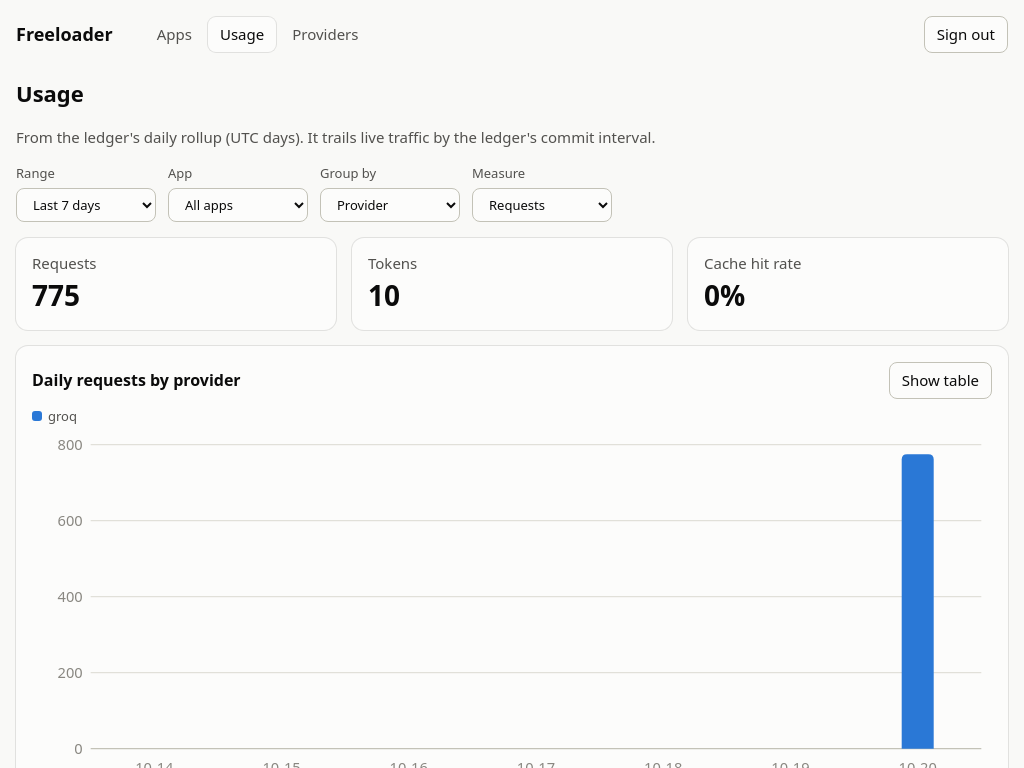
Test: Usage page › with more than 8 apps the chart folds the smallest into Other, but the table names every app
The width and height of the screenshot is (1024, 768).
Check: the list named "Legend" is shown, box [32,406,77,424]
Step 1. Select "App" in the dropdown labelled "Group by" → (390, 204), box [320,188,460,222]
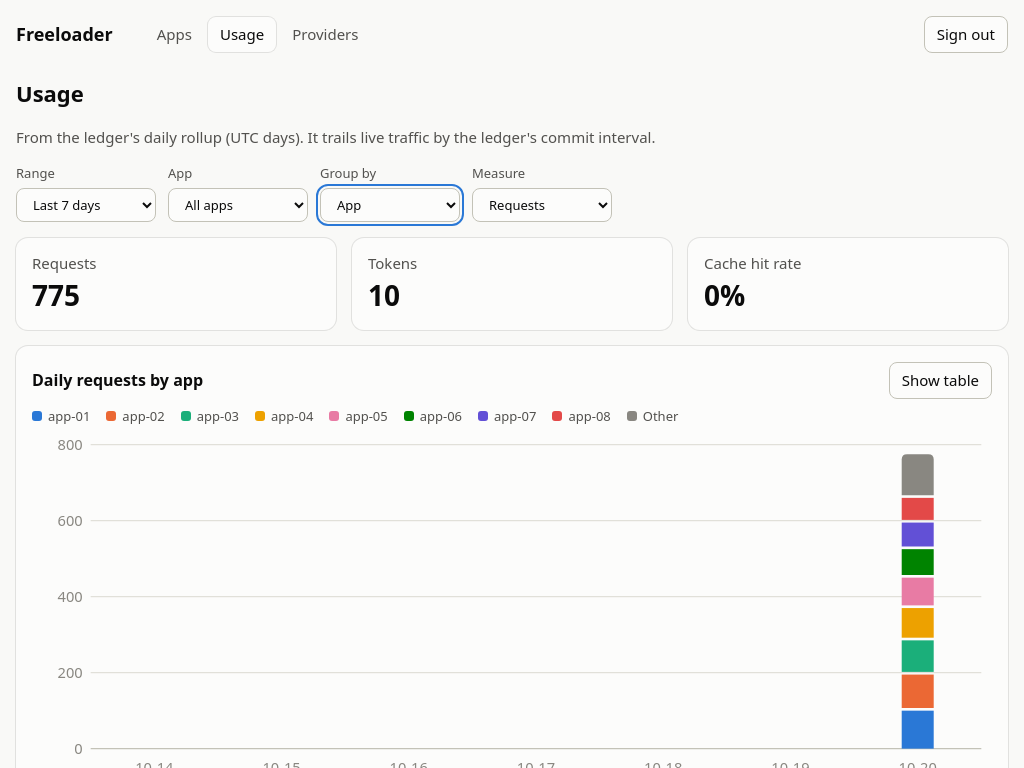
Check: the list item does not show "app-10"
Check: the number of list items is 9
Check: the list item "Other" is shown, box [627,406,678,426]
Step 2. Click the button "Show table" → (940, 380), box [889,362,992,398]
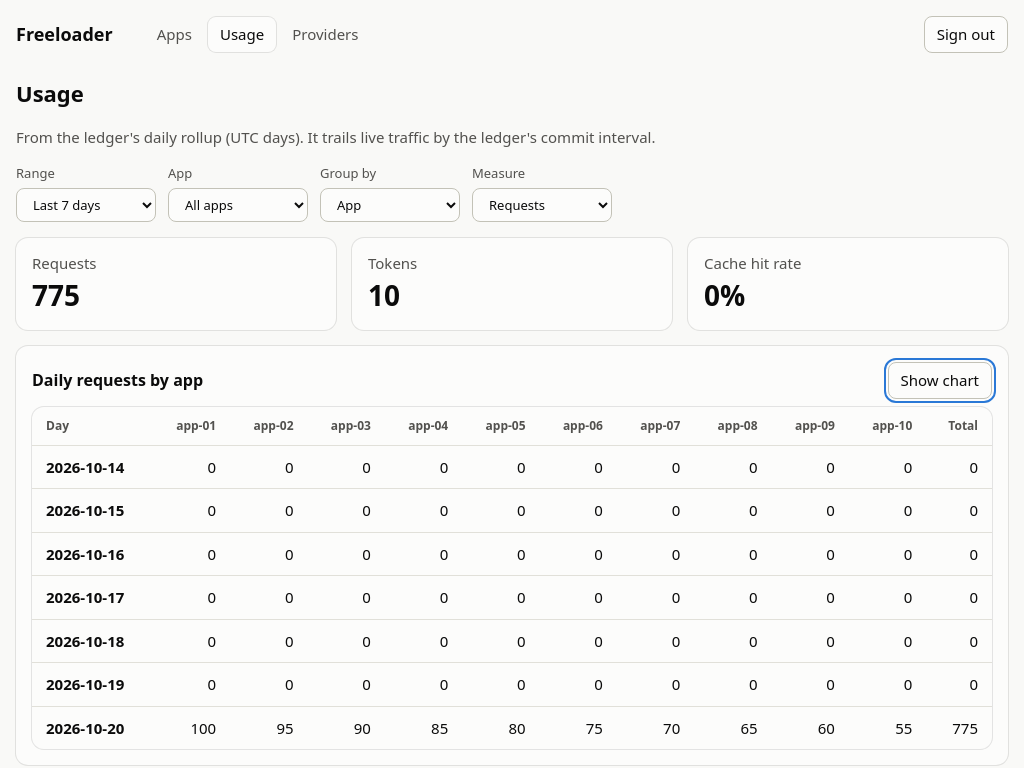
Check: the column heading "app-10" is shown, box [849,406,926,445]
Check: the list item "Other" no longer shows "Other"
